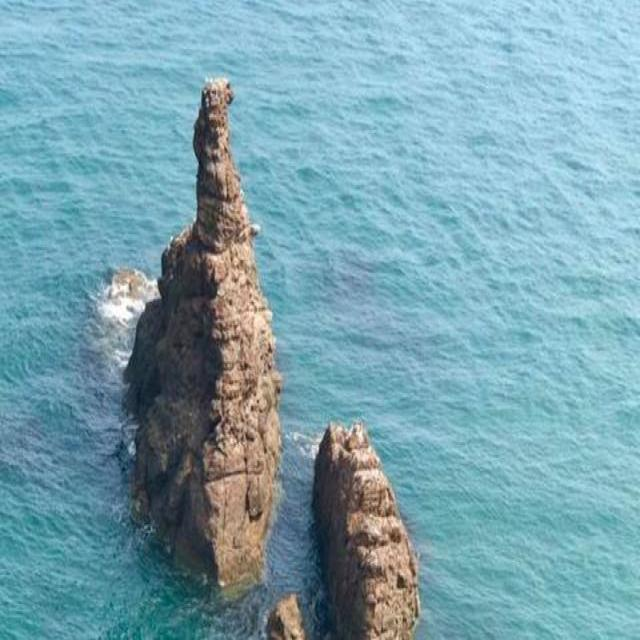reef: (123, 75, 425, 640)
